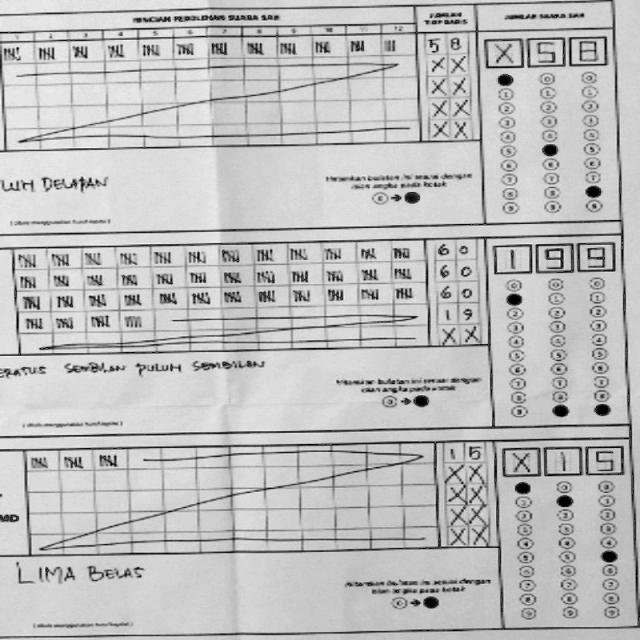Suara: (487, 236, 615, 278), (481, 38, 615, 66), (498, 451, 620, 474)
